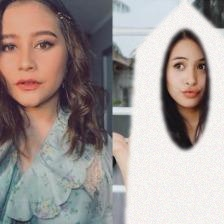Mukena: (124, 7, 224, 224)
